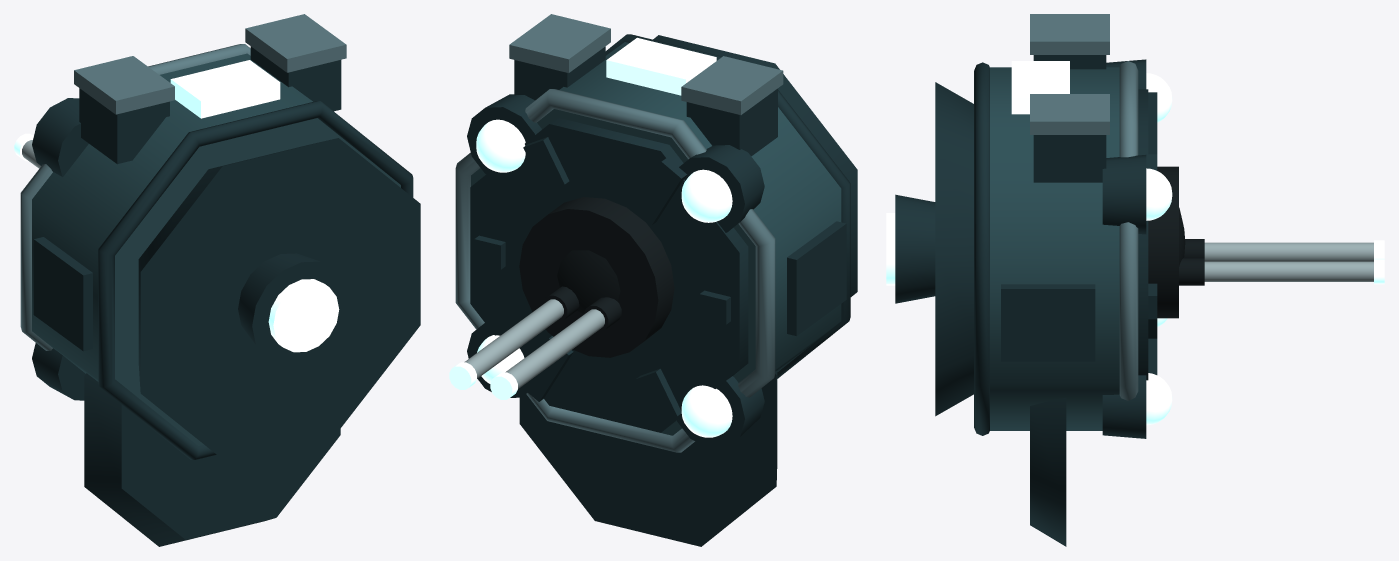
File: tank-fortress.glb
3 renders of one model, left to right at view 1: azimuth 30°, elevation 25°; view 2: azimuth 150°, elevation 25°; view 3: azimuth 270°, elevation 25°, orthographic. The views are drawn at different scales.
Visible parts, largest first — view 1: armour_backplate, armour_block, ventral_skirt, armour_rim_back, aft_thruster_hub, flank_insert_port, dorsal_vent, aft_thruster_glow, dorsal_mount_cap_stbd, dorsal_mount_cap_port, dorsal_mount_port, armour_rim_front (+3 smaller); view 2: armour_face_plate, ventral_skirt, armour_block, turret_ball, armour_rim_front, flank_insert_port, dorsal_mount_cap_port, dorsal_mount_cap_stbd, dorsal_vent, armour_backplate, dorsal_mount_port, node_housing_1 (+22 smaller); view 3: armour_block, armour_backplate, flank_insert_stbd, armour_rim_back, armour_rim_front, ventral_skirt, aft_thruster_hub, barrel_stbd, dorsal_mount_stbd, turret_ball, barrel_port, dorsal_mount_cap_stbd (+12 smaller).
Boxes of the visible parts, <box> form: armour_backplate: <box>138,138,420,459</box>; armour_block: <box>32,53,400,445</box>; ventral_skirt: <box>84,373,340,546</box>; armour_rim_back: <box>98,101,413,459</box>; aft_thruster_hub: <box>238,253,350,366</box>; flank_insert_port: <box>33,237,92,351</box>; dorsal_vent: <box>170,60,280,118</box>; aft_thruster_glow: <box>268,279,339,352</box>; dorsal_mount_cap_stbd: <box>245,14,346,72</box>; dorsal_mount_cap_port: <box>74,56,174,114</box>; dorsal_mount_port: <box>79,88,169,164</box>; armour_rim_front: <box>20,44,250,350</box>; armour_face_plate: <box>470,117,748,432</box>; ventral_skirt: <box>519,371,777,546</box>; armour_block: <box>471,42,841,435</box>; turret_ball: <box>519,197,674,357</box>; armour_rim_front: <box>455,89,775,452</box>; flank_insert_port: <box>787,221,846,336</box>; dorsal_mount_cap_port: <box>681,56,783,114</box>; dorsal_mount_cap_stbd: <box>509,14,610,72</box>; dorsal_vent: <box>606,37,716,95</box>; armour_backplate: <box>653,35,857,296</box>; dorsal_mount_port: <box>686,88,777,156</box>; node_housing_1: <box>679,145,764,232</box>; armour_block: <box>990,67,1119,430</box>; armour_backplate: <box>935,82,973,416</box>; flank_insert_stbd: <box>1001,284,1095,361</box>; armour_rim_back: <box>974,62,989,435</box>; armour_rim_front: <box>1119,61,1138,400</box>; ventral_skirt: <box>1030,397,1066,546</box>; aft_thruster_hub: <box>895,194,935,303</box>; barrel_stbd: <box>1204,261,1373,281</box>; dorsal_mount_stbd: <box>1033,135,1106,182</box>; turret_ball: <box>1148,166,1178,318</box>; barrel_port: <box>1204,242,1373,261</box>; dorsal_mount_cap_stbd: <box>1030,94,1109,134</box>.
Size of the model in its own units: 10.12 by 14.08 by 14.
